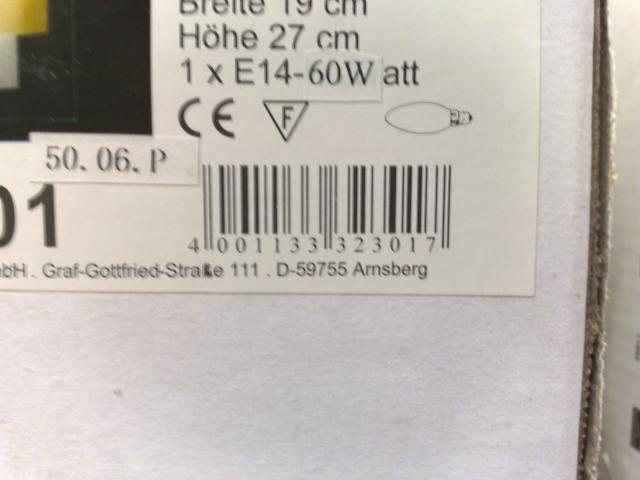Barcode: (178, 153, 472, 261)
